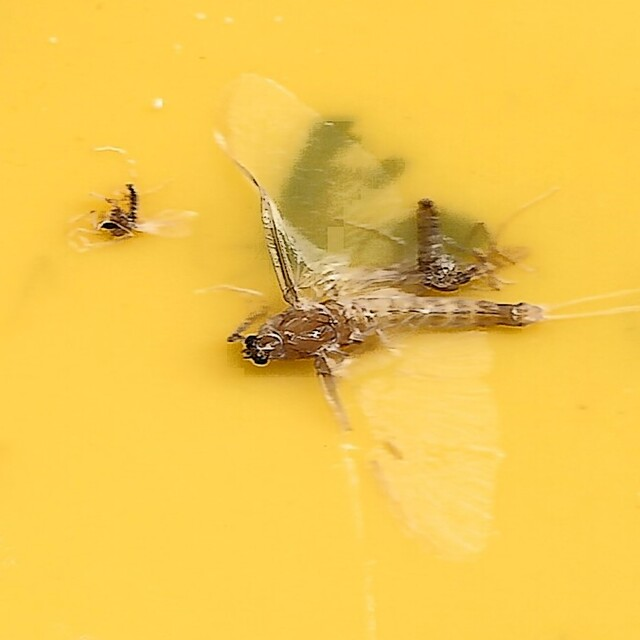Ephemeroptera: (216, 77, 545, 563)
Nematocera: (399, 197, 489, 299), (95, 181, 146, 246)
